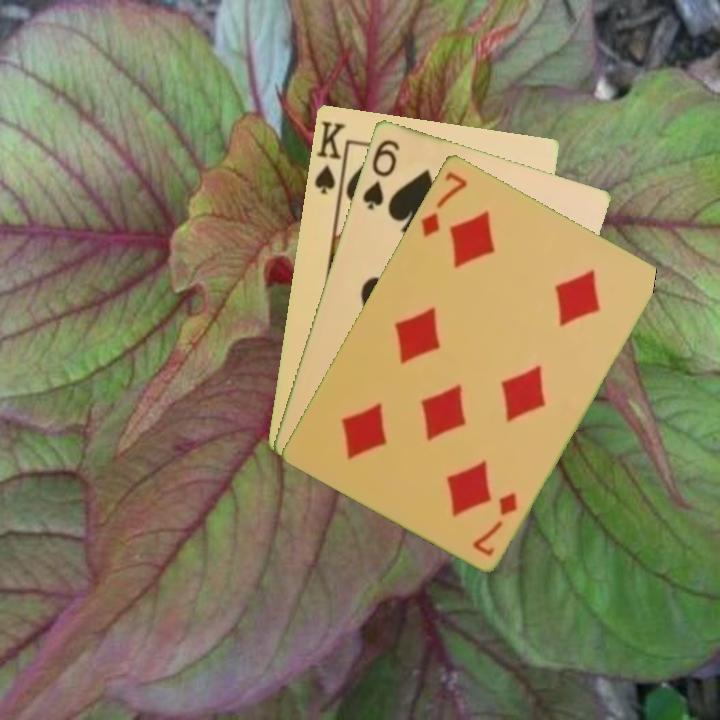6s: (358, 135, 402, 212)
7d: (417, 168, 470, 239), (468, 488, 520, 559)
Ks: (311, 117, 350, 201)
